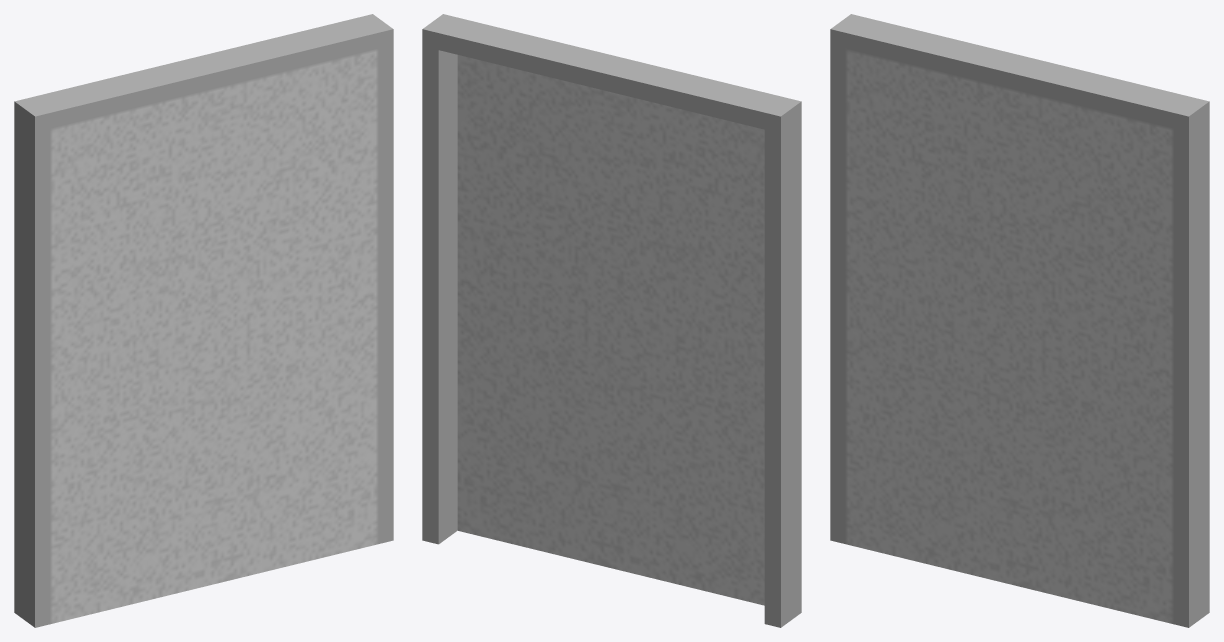
The model's file is Frame_White.fbx.
The picture shows the model from 3 angles, left to right: view 1: azimuth 30°, elevation 25°; view 2: azimuth 150°, elevation 25°; view 3: azimuth 330°, elevation 25°; orthographic projection.
Parts seen in each view (by area): view 1: Frame_White; view 2: Frame_White; view 3: Frame_White.
Part boxes in pixels (left/top/right/bottom): Frame_White: left=14, top=14, right=393, bottom=627; Frame_White: left=422, top=14, right=801, bottom=627; Frame_White: left=830, top=14, right=1209, bottom=627.
Size of the model in its own units: 110 by 150 by 11.
Materials: 1 (1 with a texture image).
